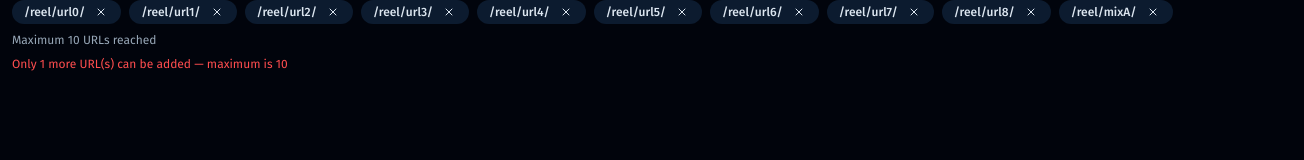
Scenario: UrlChipInput — paste respects maxChips (ticket #322) › shows only the cap message (not the invalid-URL message) when a paste is both over-cap and mixed with invalid URLs
Expected: the number of messages is 1, top-left (12, 57), bottom-right (288, 71)
Expected: the message reads "Only 1 more URL(s) can be added — maximum is 10", top-left (12, 57), bottom-right (288, 71)
Click the button without text next to "/reel/url0/" at {"x": 101, "y": 12}, box top-left (93, 4), bottom-right (109, 20)
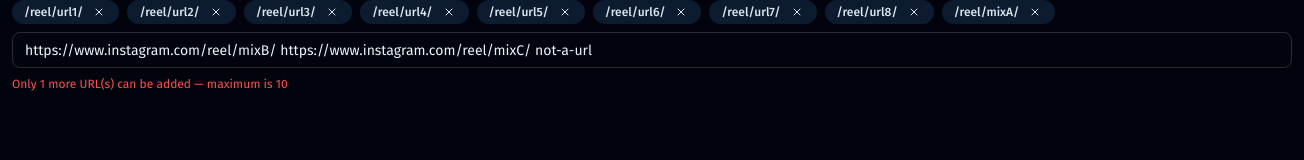
Expected: the field with placeholder "Paste or type URLs..." holds "https://www.instagram.com/reel/mixB/ https://www.instagram.com/reel/mixC/ not-a-url", top-left (12, 32), bottom-right (1292, 68)
